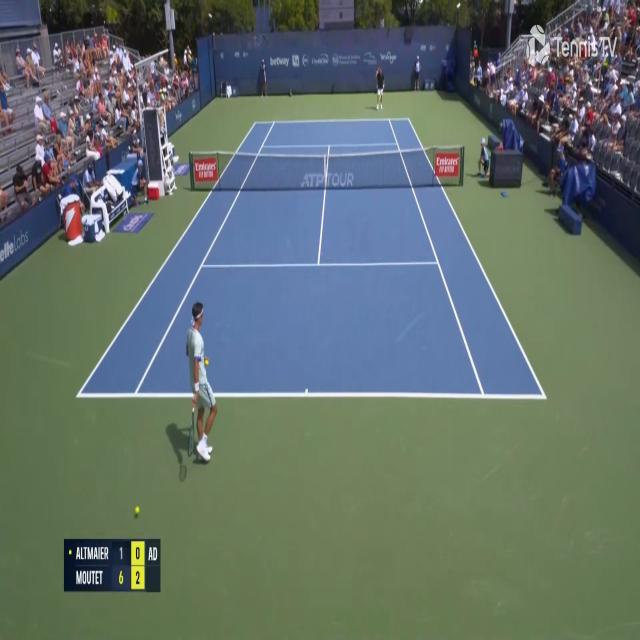tennis-player: (180, 296, 217, 464), (374, 62, 386, 111)
